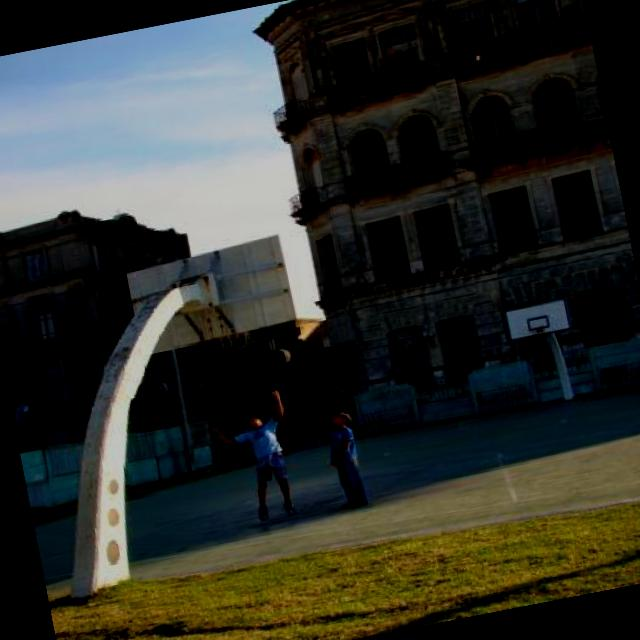Person: (200, 386, 303, 534), (310, 406, 374, 517)
